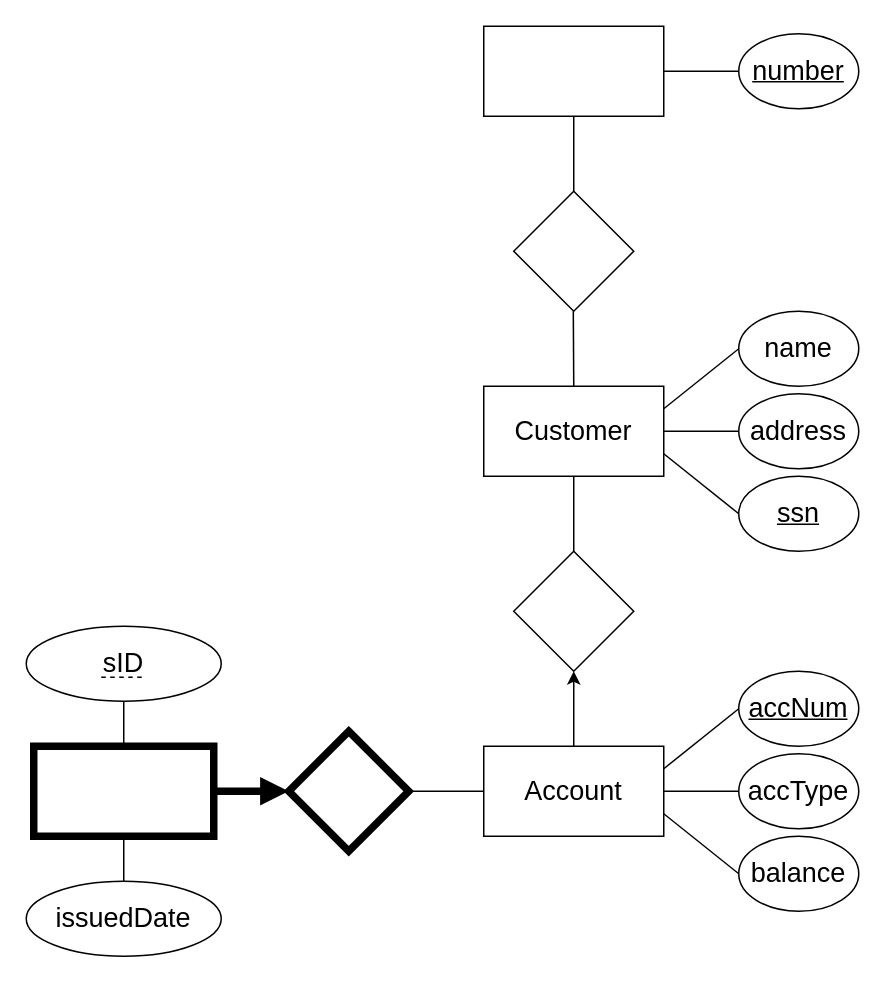
The diagram is 885 pixels wide and 983 high, and some of its shapes have lost their labels. Each missing label, with the box of its shape:
has: (512, 190, 634, 311)
issued: (284, 727, 412, 854)
own: (512, 550, 634, 671)
Phone Number: (482, 25, 664, 116)
Statement: (29, 742, 217, 839)
